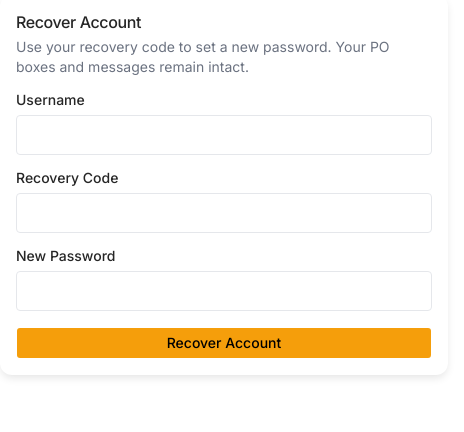
it: RecoverPage › shows error when recovery code is invalid (unwrapPrivateKey throws)
Type "alice" into the field labelled "Username" at (224, 135), box top-left (16, 115), bottom-right (432, 155)
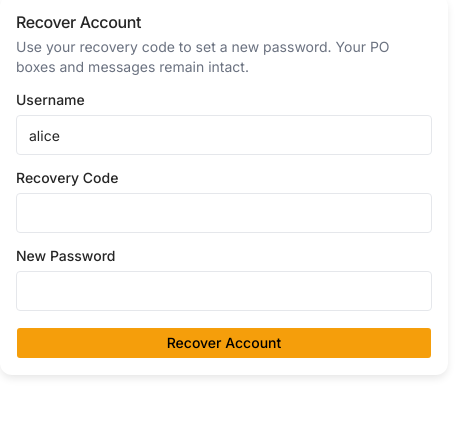
Type "INVALID-CODE" into the field labelled "Recovery Code" at (224, 213), box top-left (16, 193), bottom-right (432, 233)
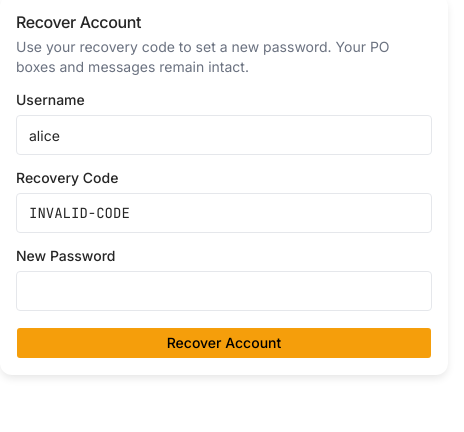
Type "newpassword123" into the password field labelled "New Password" at (224, 291), box top-left (16, 271), bottom-right (432, 311)
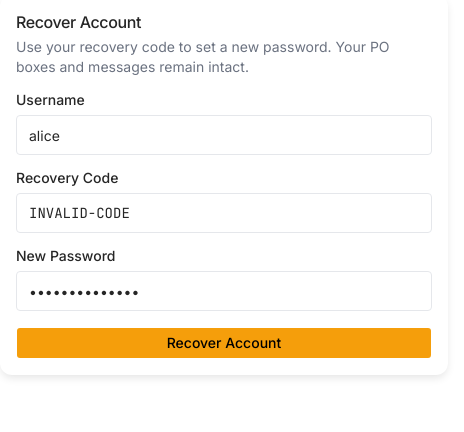
Click the button "Recover Account" at (224, 343), box top-left (16, 327), bottom-right (432, 359)
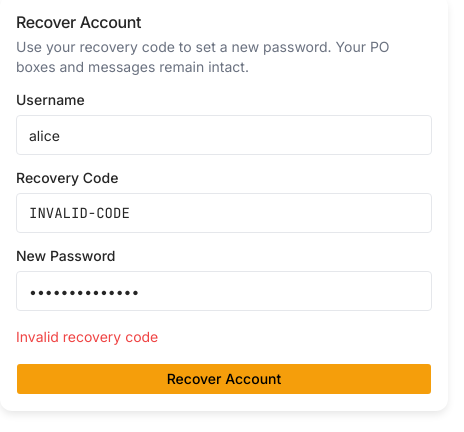
Expected: the text "Invalid recovery code" is shown, top-left (16, 328), bottom-right (158, 345)
